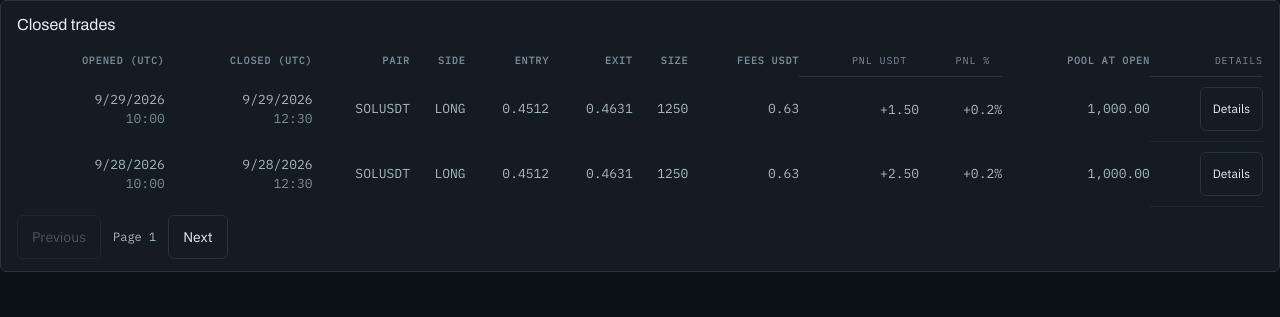
Test: TradesTable › keeps the current page on screen and says the next page failed, then moves on at a second click
This screenshot has width=1280, height=317.
Check: the table is shown, box 17,45 -> 1263,207
Click the button "Next": click(198, 237) 168,215 -> 228,259
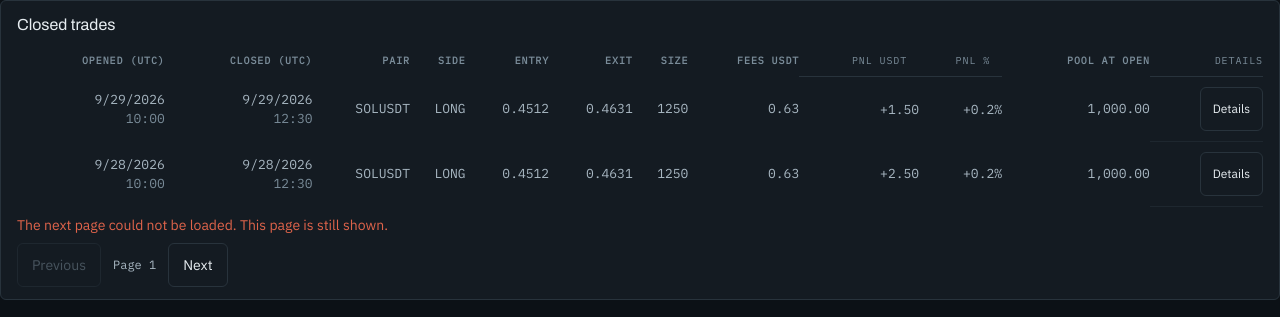
Check: the text "Page 1" is shown, box 113,257 -> 156,273
Check: the message reads "The next page could not be loaded. This page is still shown.", box 17,216 -> 388,234
Click the button "Next": click(198, 265) 168,243 -> 228,287
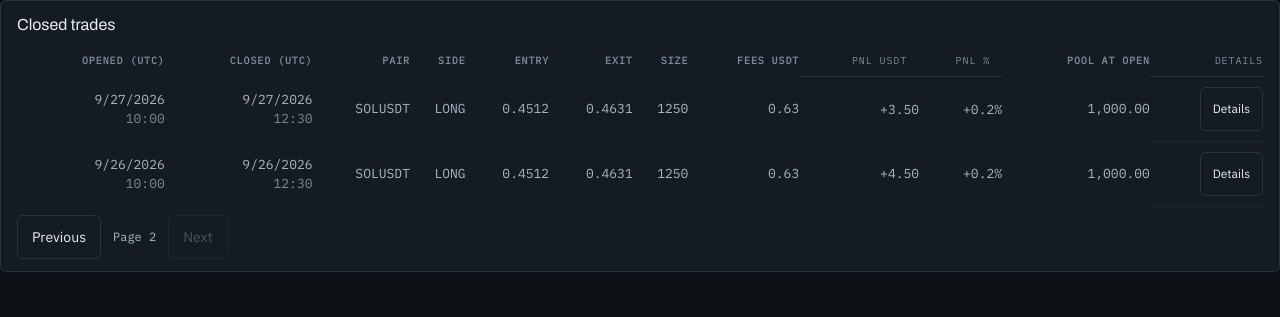
Check: the message "The next page could not be loaded. This page is still shown." is gone
